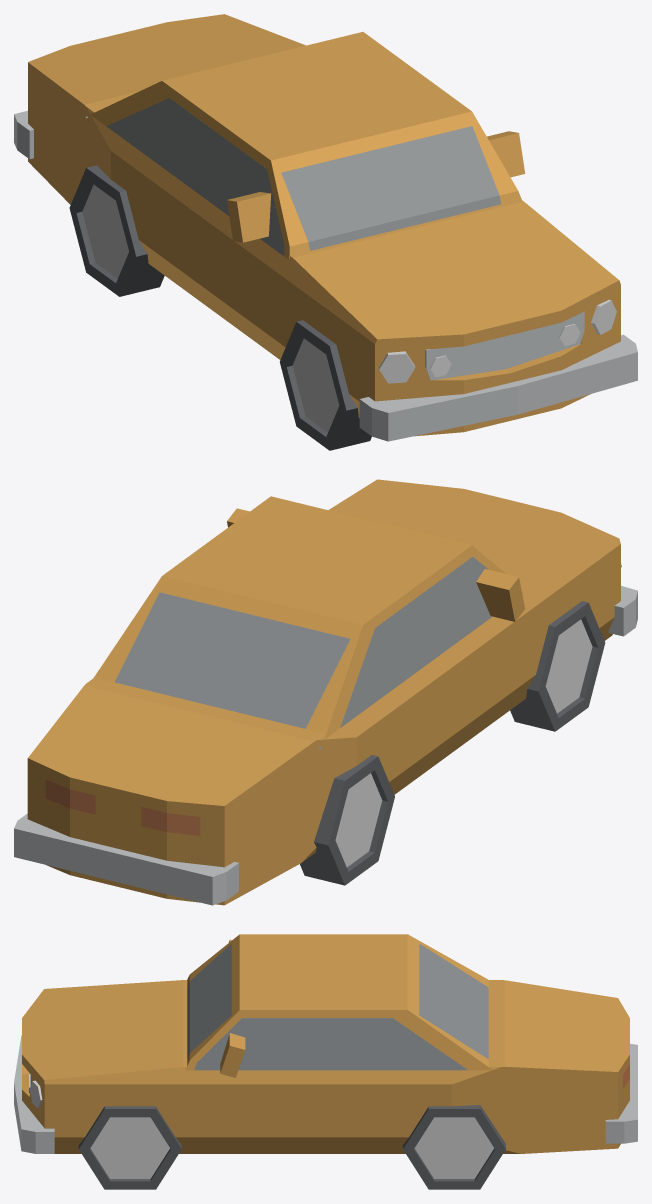
Rendered from car.glb.
3 views of the same model, one above another, from view 1: azimuth 30°, elevation 25°; view 2: azimuth 150°, elevation 25°; view 3: azimuth 270°, elevation 25° (orthographic). The views are drawn at different scales.
Parts seen in each view (by area): view 1: Mesh_Mesh_head_geo.001_lambert2SG.001; view 2: Mesh_Mesh_head_geo.001_lambert2SG.001; view 3: Mesh_Mesh_head_geo.001_lambert2SG.001.
Boxes of the visible parts, <box> form: Mesh_Mesh_head_geo.001_lambert2SG.001: <box>14,14,637,450</box>; Mesh_Mesh_head_geo.001_lambert2SG.001: <box>14,479,637,905</box>; Mesh_Mesh_head_geo.001_lambert2SG.001: <box>14,934,637,1189</box>.
Size of the model in its own units: 31 by 23 by 77.
